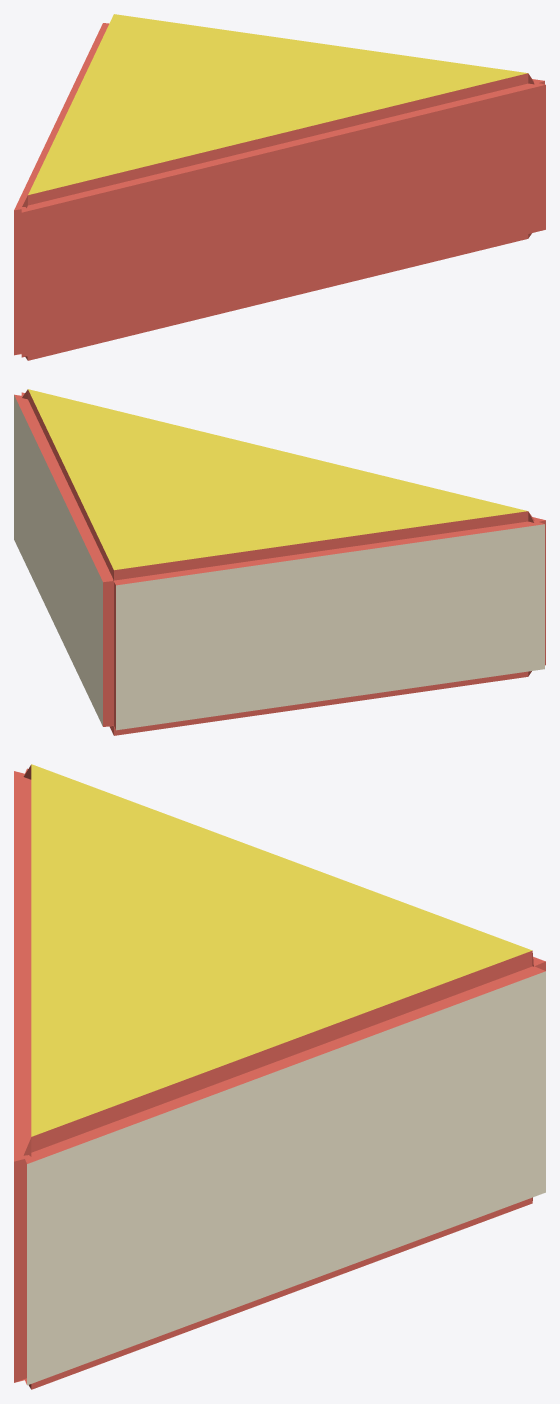
The model's file is prop_carnival_wedge_bumper.glb.
3 renders of one model, top to bottom at view 1: azimuth 30°, elevation 25°; view 2: azimuth 150°, elevation 25°; view 3: azimuth 270°, elevation 25°, orthographic. The views are drawn at different scales.
Parts seen in each view (by area): view 1: Mesh_Wedge_Bumper; view 2: Mesh_Wedge_Bumper; view 3: Mesh_Wedge_Bumper.
Boxes of the visible parts, bbox=[...] form: Mesh_Wedge_Bumper: bbox=[14, 14, 545, 360]; Mesh_Wedge_Bumper: bbox=[14, 389, 545, 735]; Mesh_Wedge_Bumper: bbox=[14, 764, 545, 1389].
Size of what is drawn, in the model's own units: 2.15 by 0.64 by 1.22.
